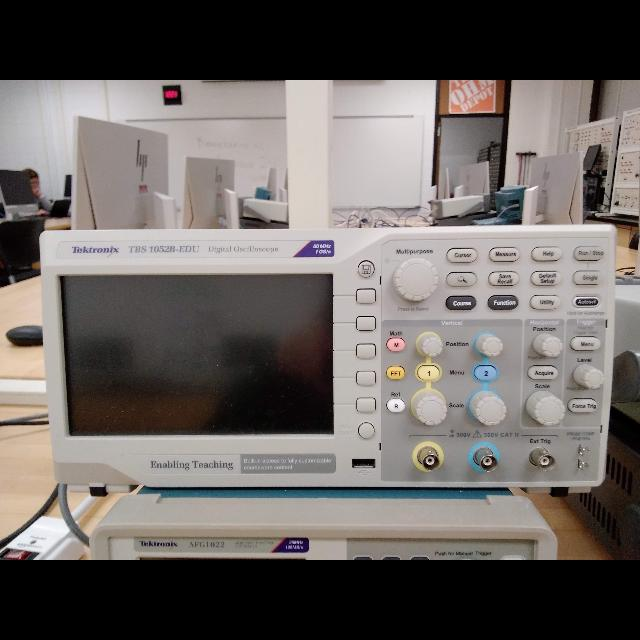Digital-Oscilloscope: (39, 227, 617, 485)
